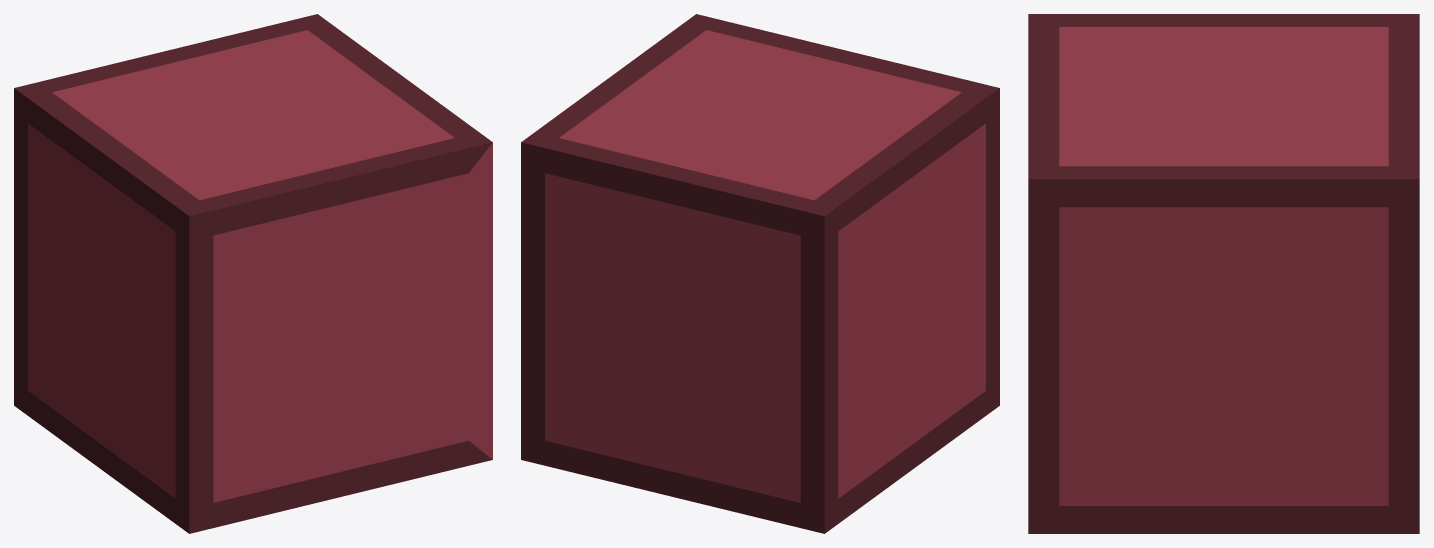
Rendered from coinBlock_empty.glb.
3 views of the same model, side by side, from view 1: azimuth 30°, elevation 25°; view 2: azimuth 150°, elevation 25°; view 3: azimuth 270°, elevation 25° (orthographic). The views are drawn at different scales.
Parts seen in each view (by area): view 1: CoinBlock_Empty; view 2: CoinBlock_Empty; view 3: CoinBlock_Empty.
Part boxes in pixels (x1=…): CoinBlock_Empty: x1=14, y1=14, x2=492, y2=533; CoinBlock_Empty: x1=521, y1=14, x2=999, y2=533; CoinBlock_Empty: x1=1028, y1=14, x2=1419, y2=533.
Size of the model in its own units: 2 by 2 by 2.
